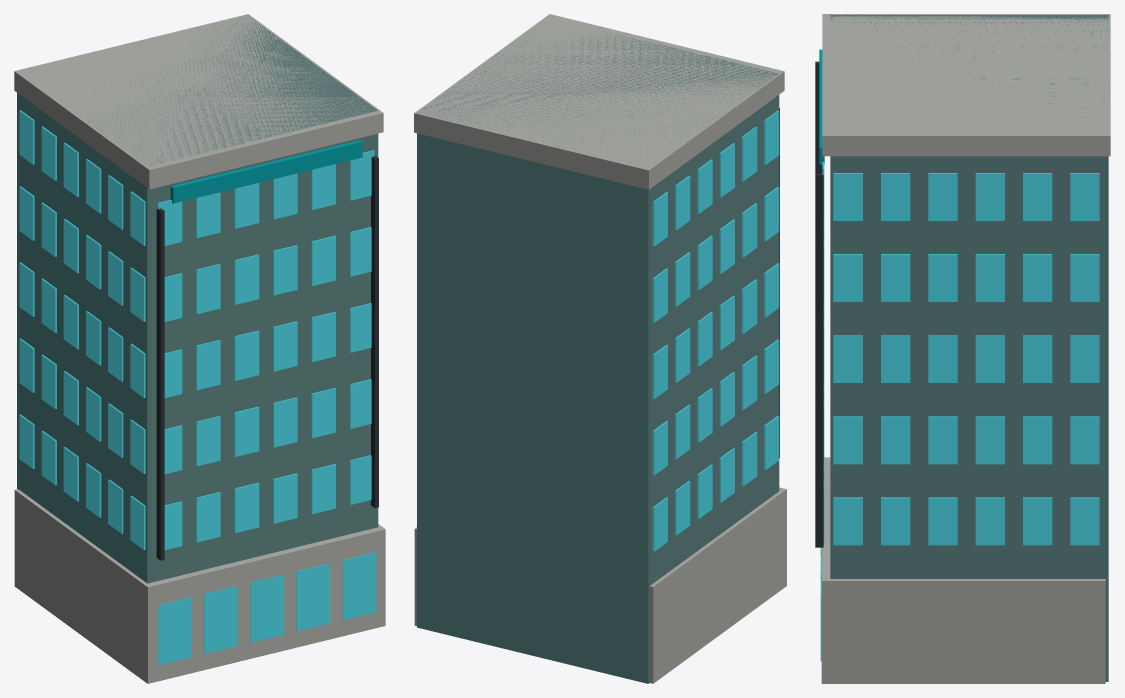
Rendered from JHB_MidRise04_LOD2.fbx.
The picture shows the model from 3 angles, left to right: view 1: azimuth 30°, elevation 25°; view 2: azimuth 150°, elevation 25°; view 3: azimuth 270°, elevation 25°; orthographic projection. The views are drawn at different scales.
Visible parts, largest first — view 1: JHB_MidRise04_LOD2_FacadeAtlas, JHB_MidRise04_LOD2_Concrete, JHB_MidRise04_LOD2_TealGlass, JHB_MidRise04_LOD2_DarkMetal, JHB_MidRise04_LOD2_BlankSignBand; view 2: JHB_MidRise04_LOD2_FacadeAtlas, JHB_MidRise04_LOD2_Concrete, JHB_MidRise04_LOD2_TealGlass; view 3: JHB_MidRise04_LOD2_FacadeAtlas, JHB_MidRise04_LOD2_Concrete, JHB_MidRise04_LOD2_TealGlass, JHB_MidRise04_LOD2_DarkMetal, JHB_MidRise04_LOD2_BlankSignBand.
Boxes of the visible parts, left/top/right/bottom form: JHB_MidRise04_LOD2_FacadeAtlas: left=17, top=15, right=378, bottom=583; JHB_MidRise04_LOD2_Concrete: left=14, top=14, right=385, bottom=683; JHB_MidRise04_LOD2_TealGlass: left=19, top=110, right=376, bottom=665; JHB_MidRise04_LOD2_DarkMetal: left=156, top=155, right=378, bottom=560; JHB_MidRise04_LOD2_BlankSignBand: left=170, top=140, right=362, bottom=203; JHB_MidRise04_LOD2_FacadeAtlas: left=417, top=24, right=779, bottom=683; JHB_MidRise04_LOD2_Concrete: left=414, top=14, right=786, bottom=683; JHB_MidRise04_LOD2_TealGlass: left=652, top=110, right=779, bottom=551; JHB_MidRise04_LOD2_FacadeAtlas: left=830, top=15, right=1108, bottom=681; JHB_MidRise04_LOD2_Concrete: left=821, top=14, right=1110, bottom=683; JHB_MidRise04_LOD2_TealGlass: left=820, top=162, right=1099, bottom=661; JHB_MidRise04_LOD2_DarkMetal: left=815, top=61, right=823, bottom=547; JHB_MidRise04_LOD2_BlankSignBand: left=819, top=49, right=824, bottom=164.
Bounding box in the file's own units: 8.25 × 17 × 8.32.
Materials: 5 (1 with a texture image).
